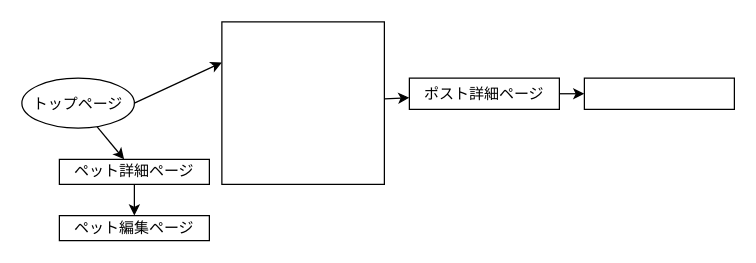
Some shapes in this 756 by 263 pixel diagram are drawn without their labels. Here are the shapes that lost their labels. From the top down, the box of each, then its label:
(221, 21, 384, 184): 新規登録ページ ログインページ ユーザマイページ ペット一覧 ポスト一覧 ペット登録ページ ポスト投稿ページ ユーザマイページ
(583, 77, 734, 109): ポスト編集ページ
